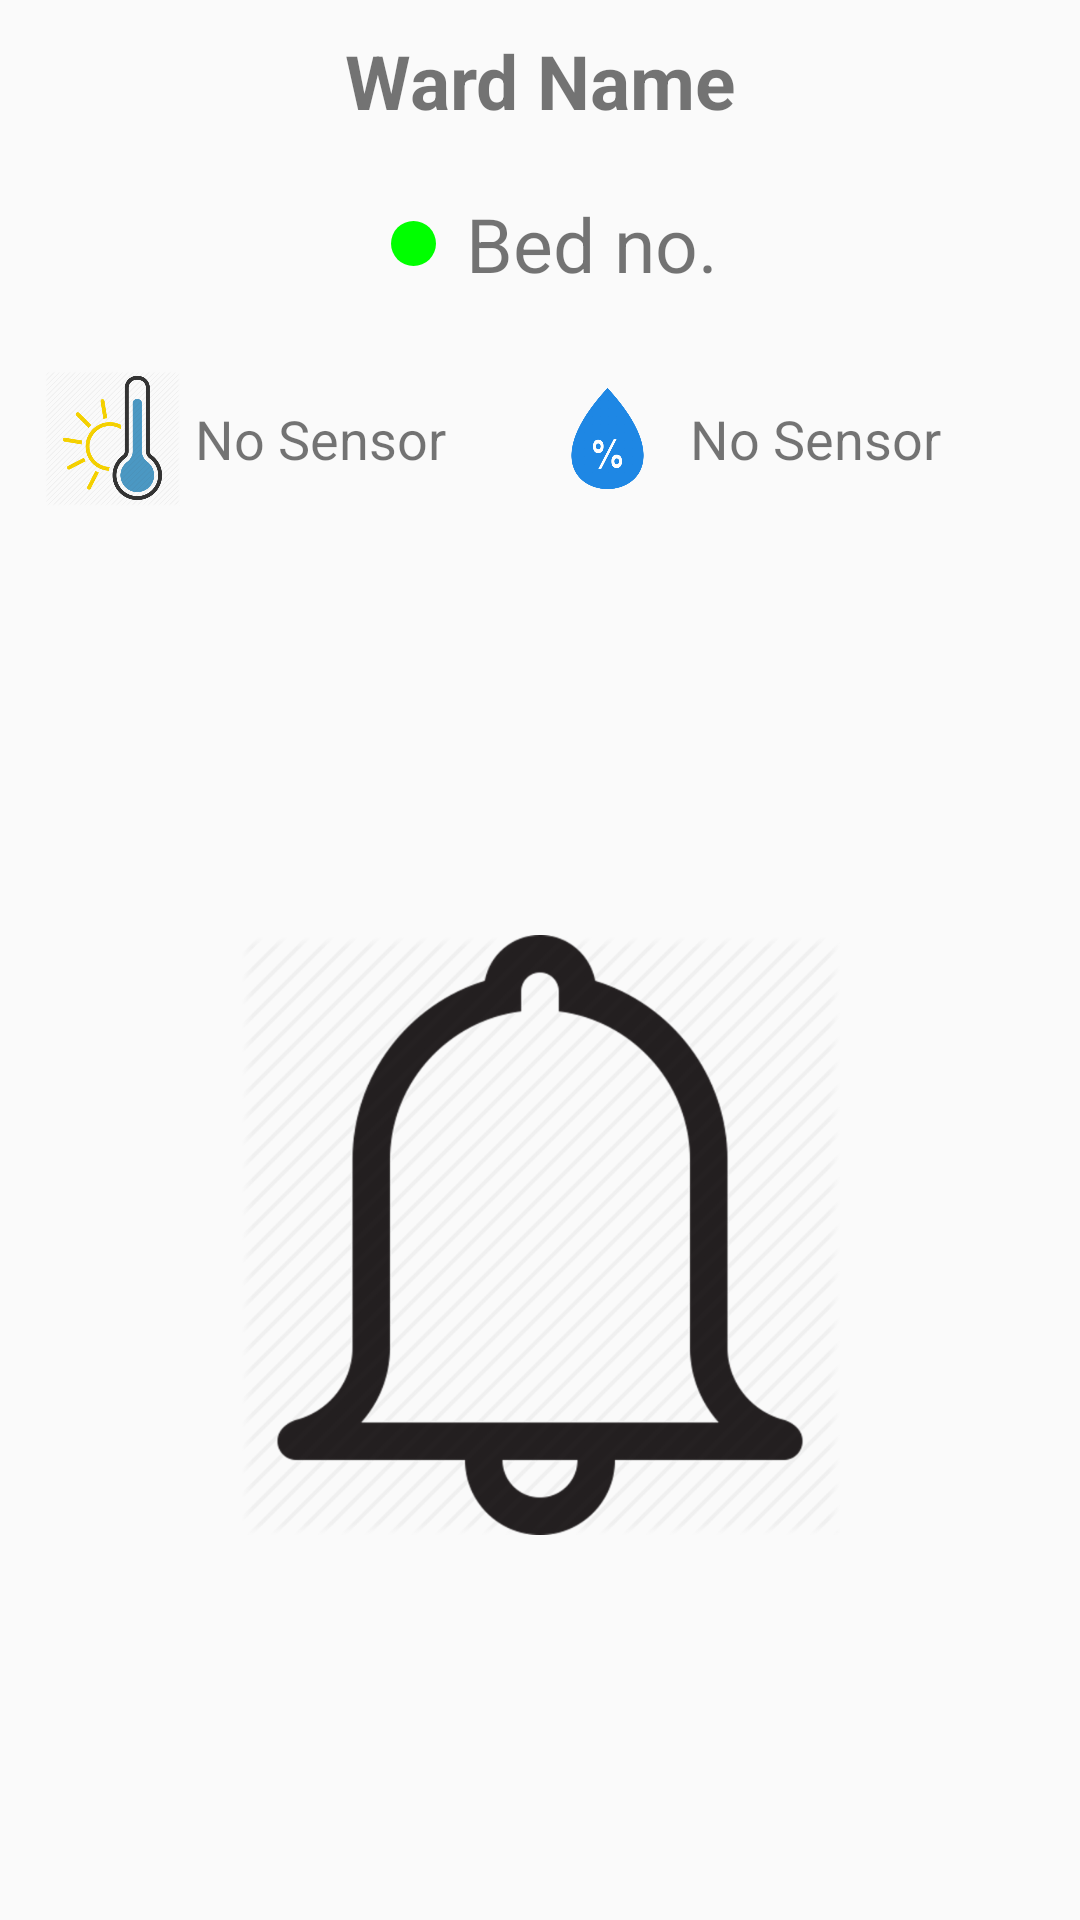

Where icons sit on this 1080 x 1920 app screen, as box=[x1, y1, x2, y2]:
hum-icon: box=[571, 388, 644, 489]
